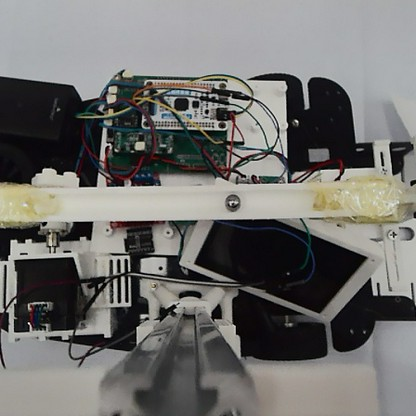ironball: (223, 190, 241, 212)
